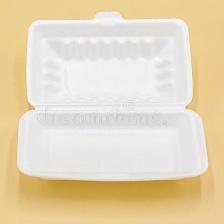foam_box: (11, 6, 211, 187)
